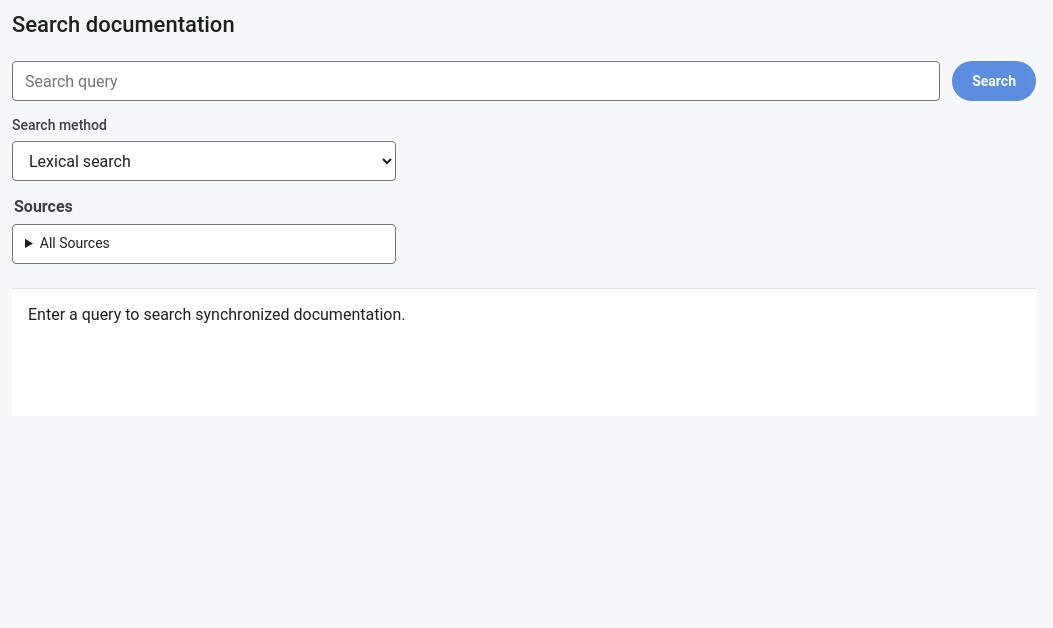
Test: DocumentationSearch › searches only the selected Sources
Click the heading "All Sources": (75, 243) x1=12 y1=224 x2=396 y2=264
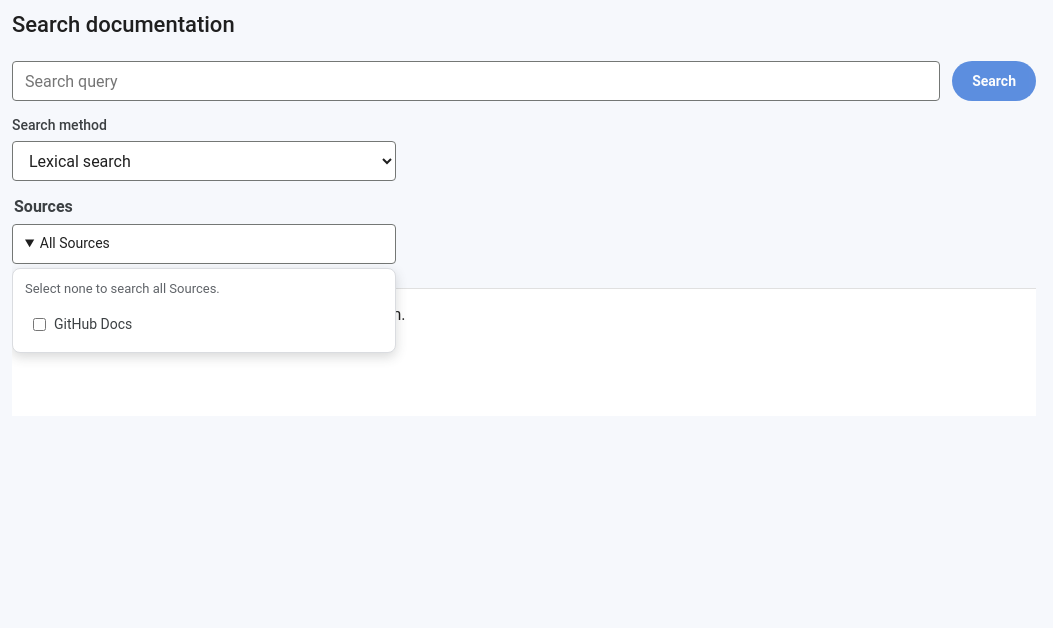
Click the checkbox labelled "GitHub Docs": (40, 324) x1=33 y1=318 x2=46 y2=330
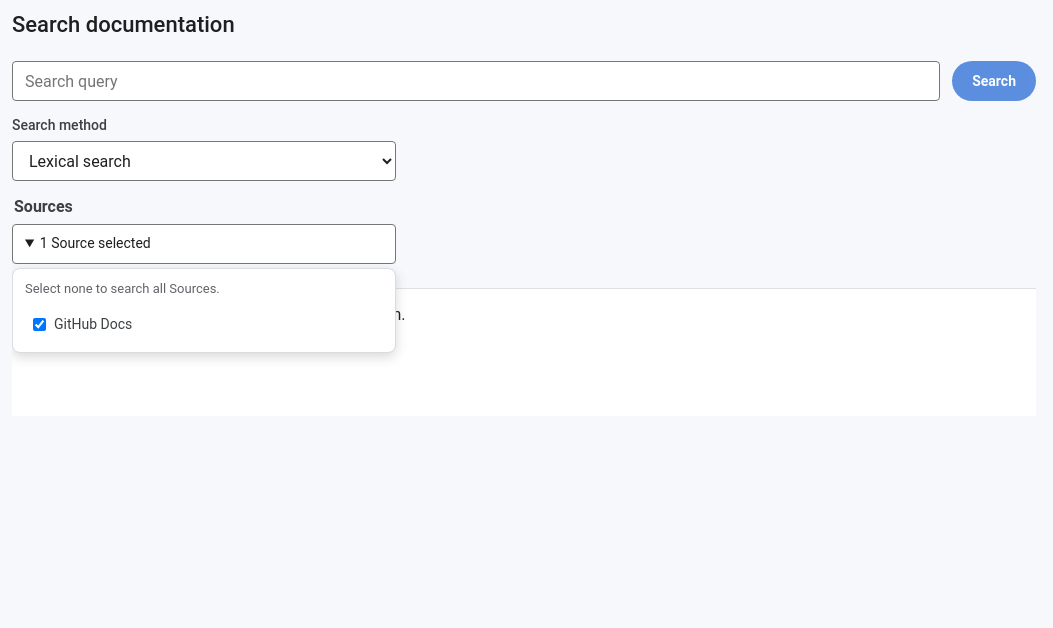
In the search field labelled "Search query": (476, 81) x1=12 y1=61 x2=940 y2=101, type "write permission"
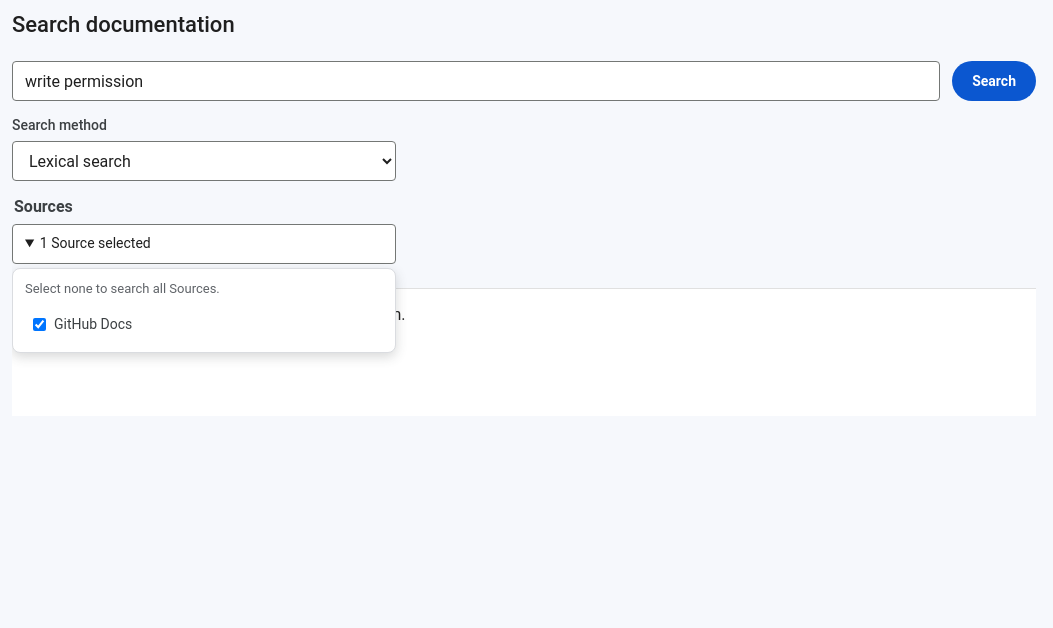
Click the button "Search": (994, 81) x1=952 y1=61 x2=1036 y2=101
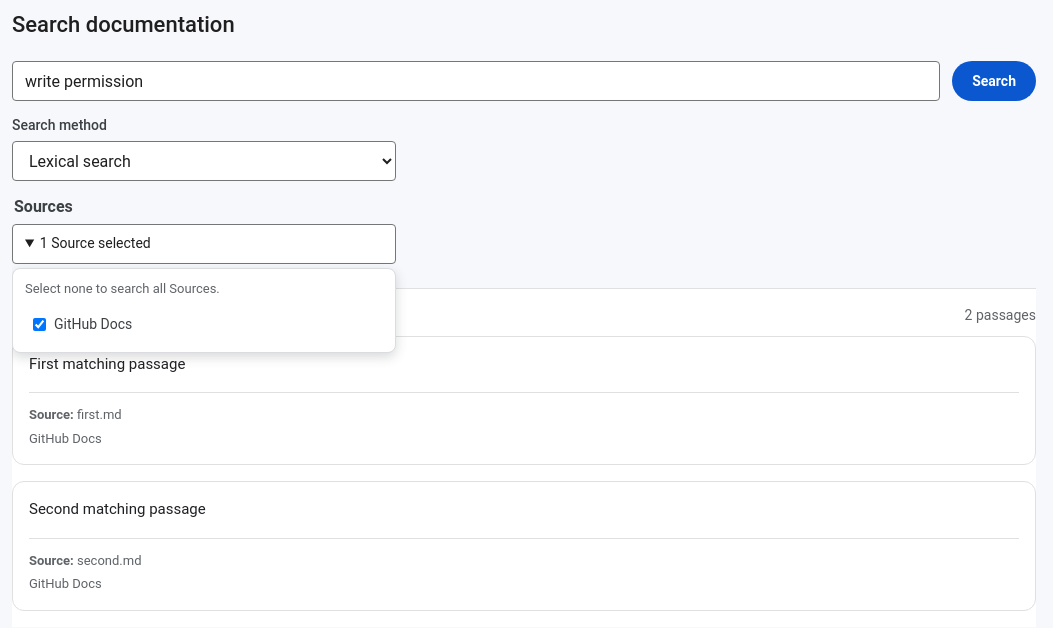
Check: the text "2 passages" is shown, box x1=965 y1=307 x2=1036 y2=323
